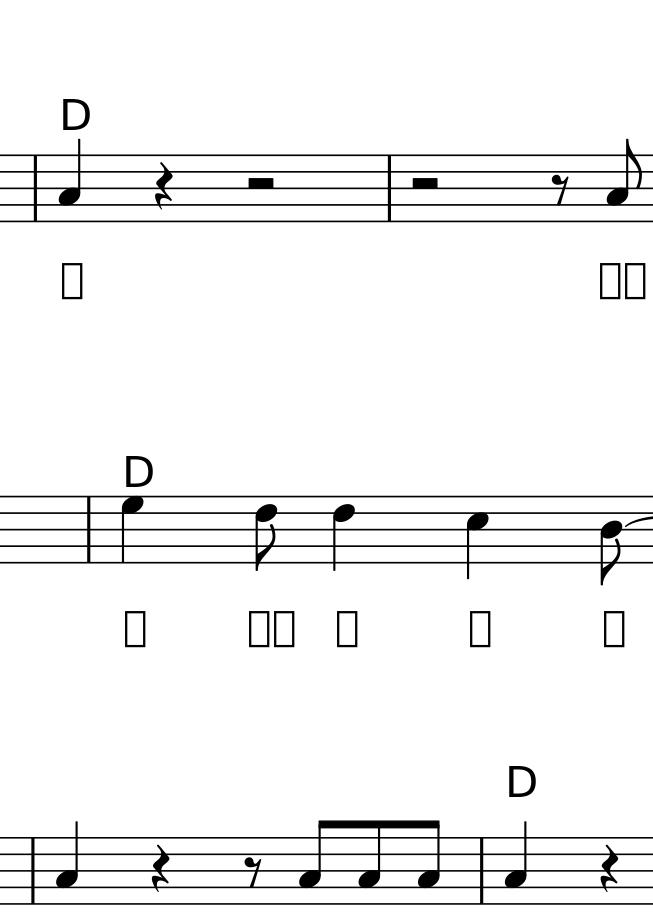4_3: (58, 138, 83, 224), (56, 820, 81, 906), (505, 819, 528, 905)
4_5: (465, 494, 491, 583)
4_6: (331, 494, 357, 574)
4_7: (118, 494, 149, 565)
8_3: (298, 818, 334, 908), (605, 138, 643, 223), (416, 818, 442, 907), (358, 819, 381, 907)
8_4: (599, 495, 627, 586)
8_6: (252, 494, 280, 571)
Rests2: (241, 175, 283, 194), (405, 176, 449, 191)
Rests4: (149, 843, 172, 896), (599, 842, 620, 894), (153, 161, 173, 211)
Rests8: (548, 172, 572, 208), (241, 854, 265, 889)
Single_barline: (382, 152, 399, 224), (81, 492, 98, 561), (26, 153, 43, 221), (26, 836, 42, 905), (475, 837, 490, 903)
